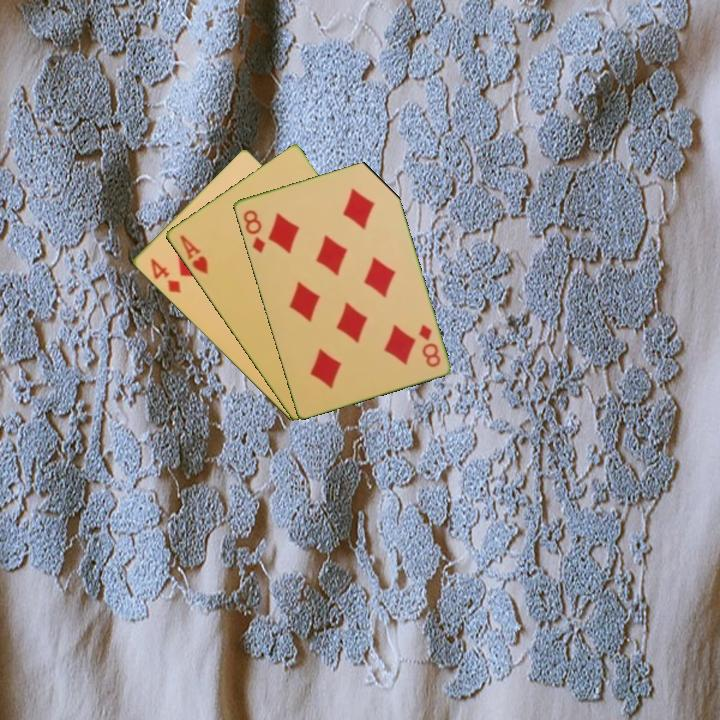4d: (146, 254, 184, 296)
8d: (239, 206, 268, 256), (415, 320, 443, 370)
Ah: (176, 231, 211, 277)
